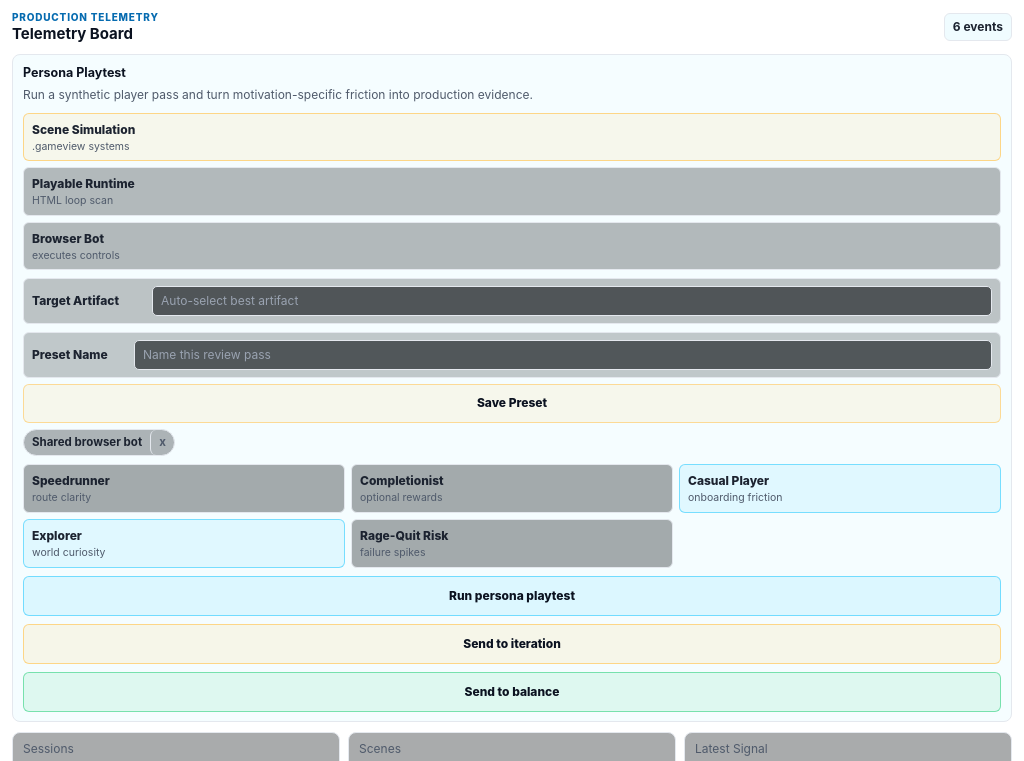
GameTelemetryBoard › hydrates shared persona playtest presets from the project daemon store
Step 1. Click the button "Shared browser bot" → (87, 443), box [24,430,150,456]
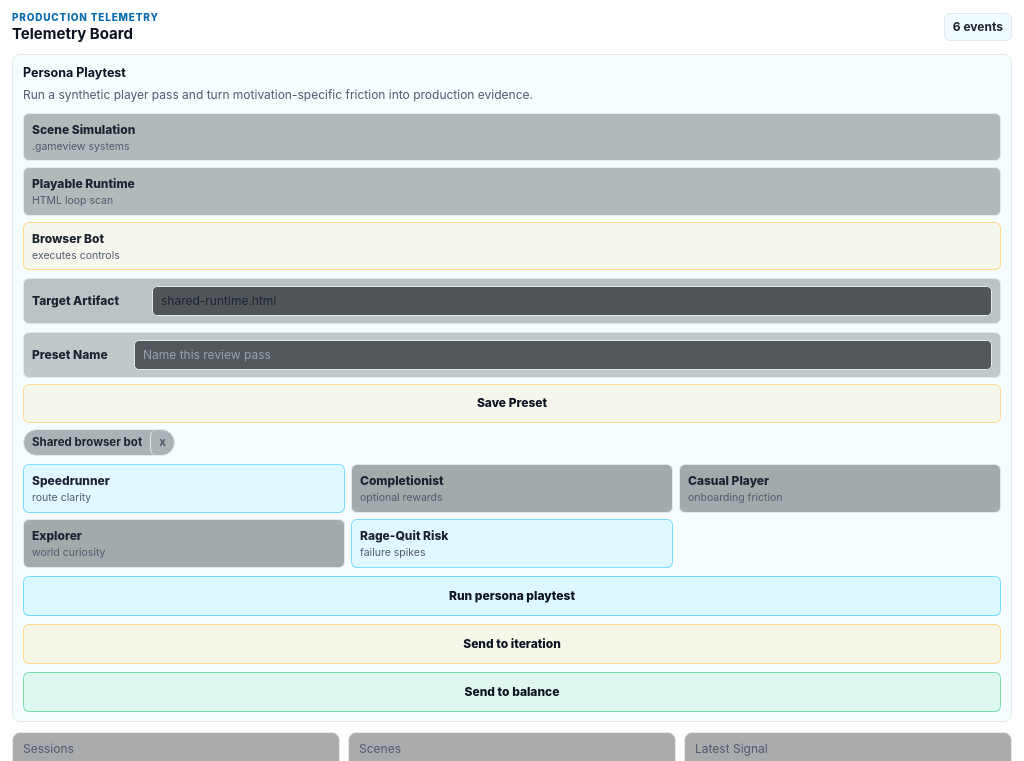
Result: the radio button labelled "Browser Bot executes controls" is checked at [23,222,1001,270]
Result: the checkbox labelled "Speedrunner route clarity" is checked at [23,464,345,513]
Result: the checkbox labelled "Rage-Quit Risk failure spikes" is checked at [351,519,673,568]
